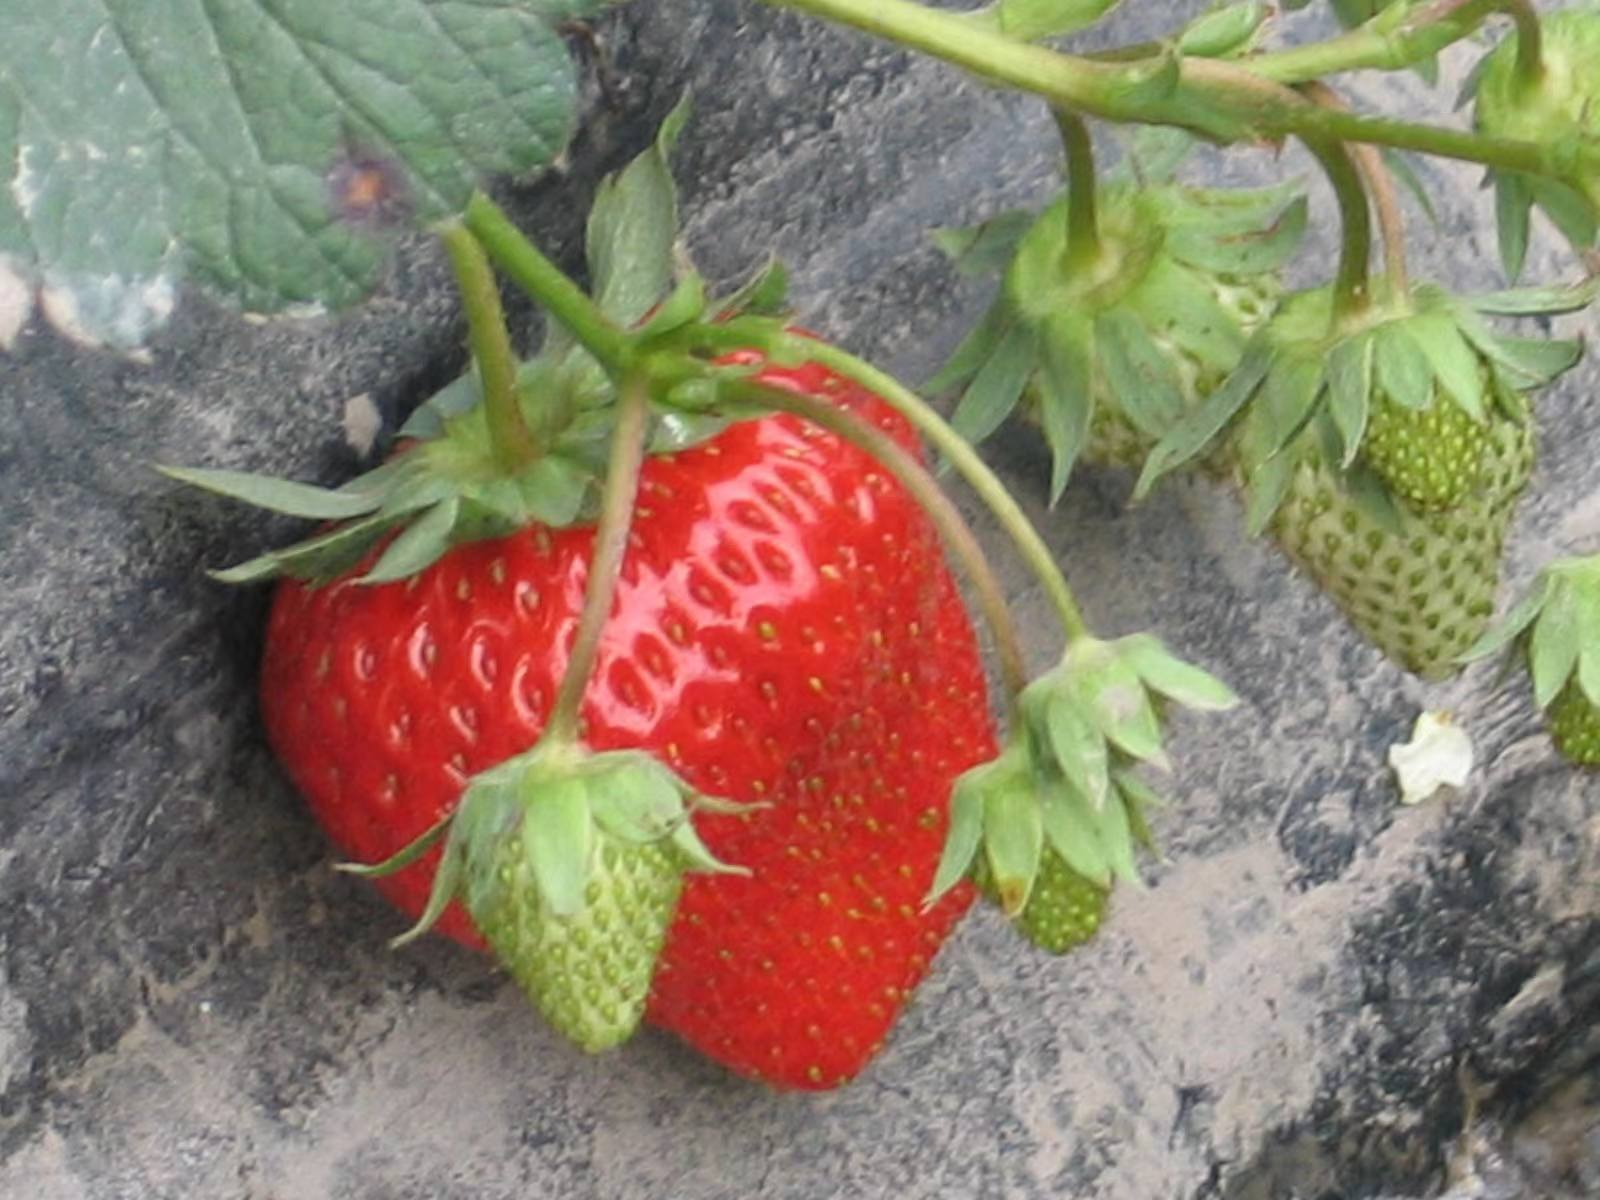StrawberryIrremovable: (1260, 310, 1528, 679), (990, 216, 1276, 516), (452, 758, 695, 1056), (971, 780, 1123, 950), (1358, 348, 1498, 528), (1532, 562, 1594, 784)
StrawberryRemovable: (249, 270, 1041, 1112)
StrawberryWedge: (244, 260, 1046, 1121)
